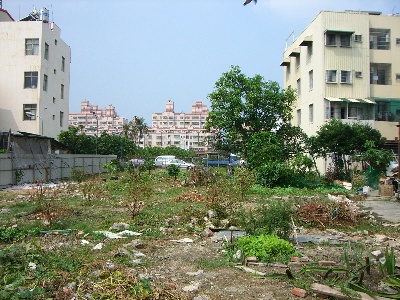water_tower: (38, 7, 50, 22)
